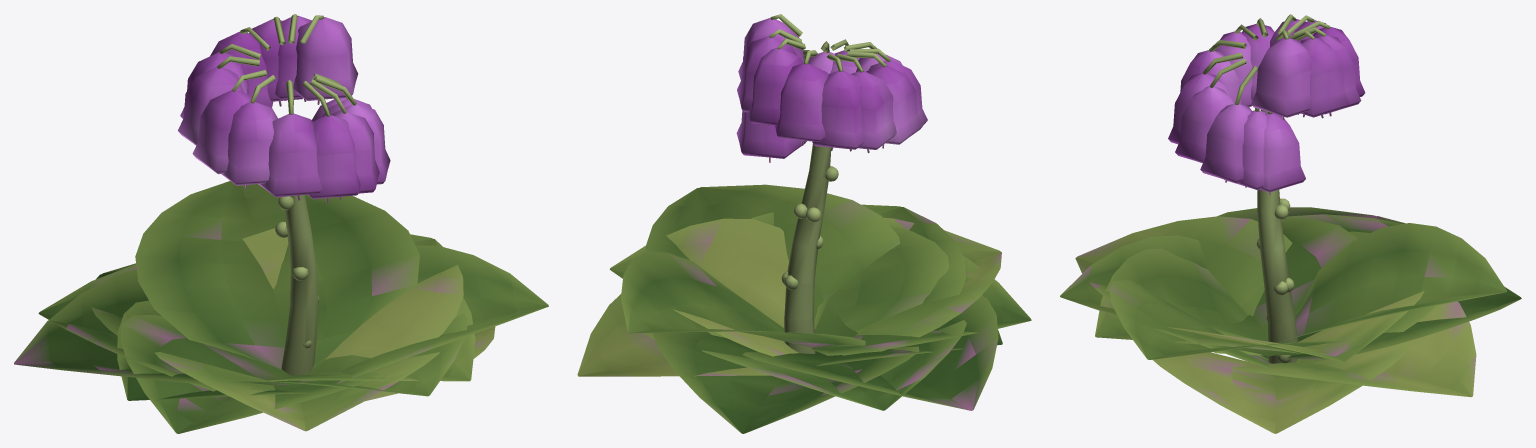
The model's file is PLN_ToxicBloom.fbx.
3 renders of one model, left to right at view 1: azimuth 30°, elevation 25°; view 2: azimuth 150°, elevation 25°; view 3: azimuth 270°, elevation 25°, orthographic. The views are drawn at different scales.
Parts seen in each view (by area): view 1: PLN_ToxicBloom; view 2: PLN_ToxicBloom; view 3: PLN_ToxicBloom.
Boxes of the visible parts, <box> form: PLN_ToxicBloom: <box>14,14,548,433</box>; PLN_ToxicBloom: <box>577,14,1031,433</box>; PLN_ToxicBloom: <box>1060,14,1521,433</box>.
Size of the model in its own units: 0.8184 by 0.7257 by 0.8242.
